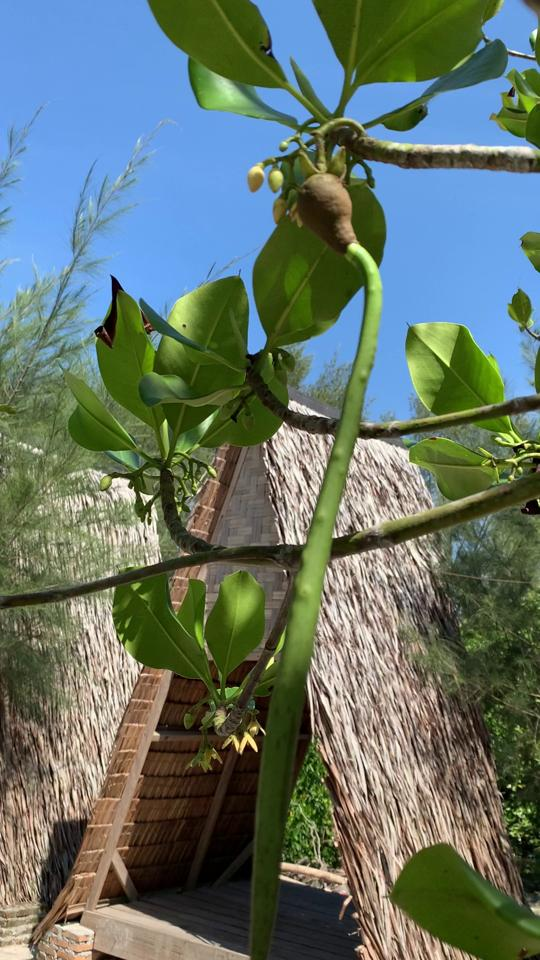setengah matang: (233, 140, 386, 958)
